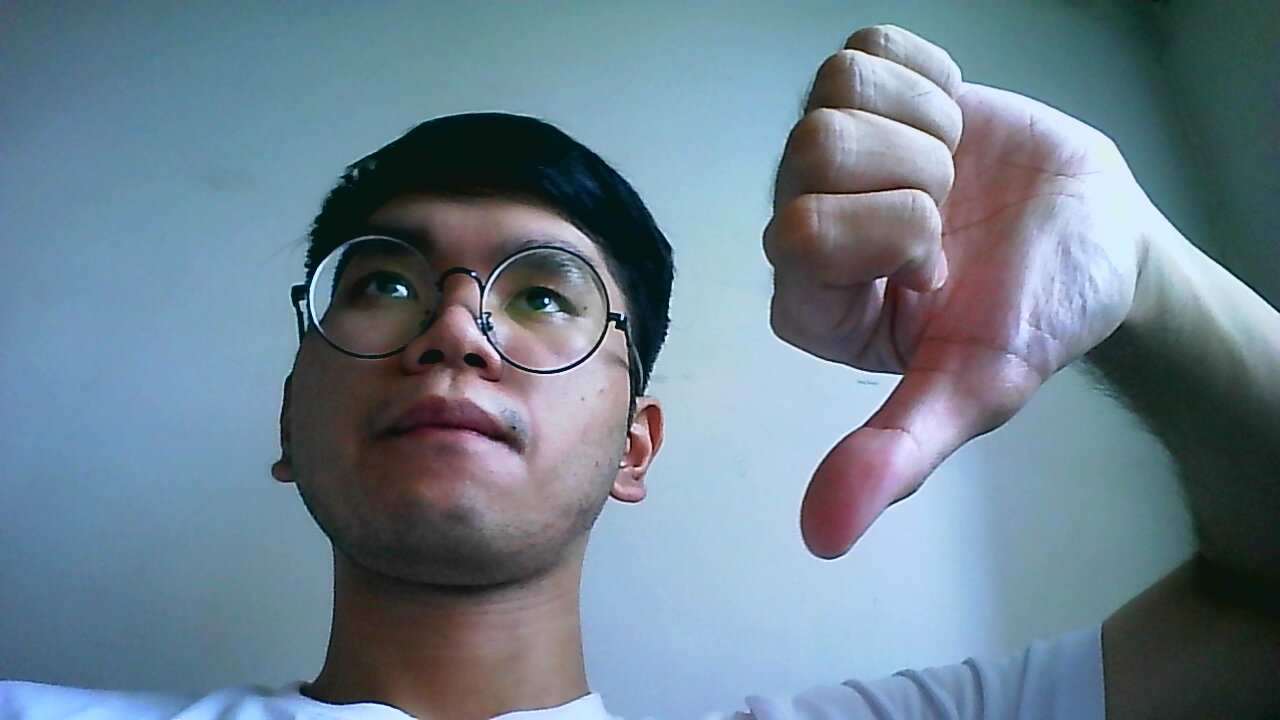thumbs: (760, 22, 1147, 559)
